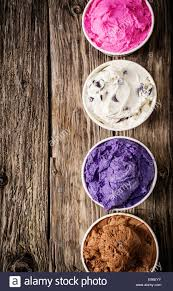ice-cream: (83, 138, 155, 209), (85, 62, 155, 127), (84, 216, 155, 273), (84, 1, 152, 52)
